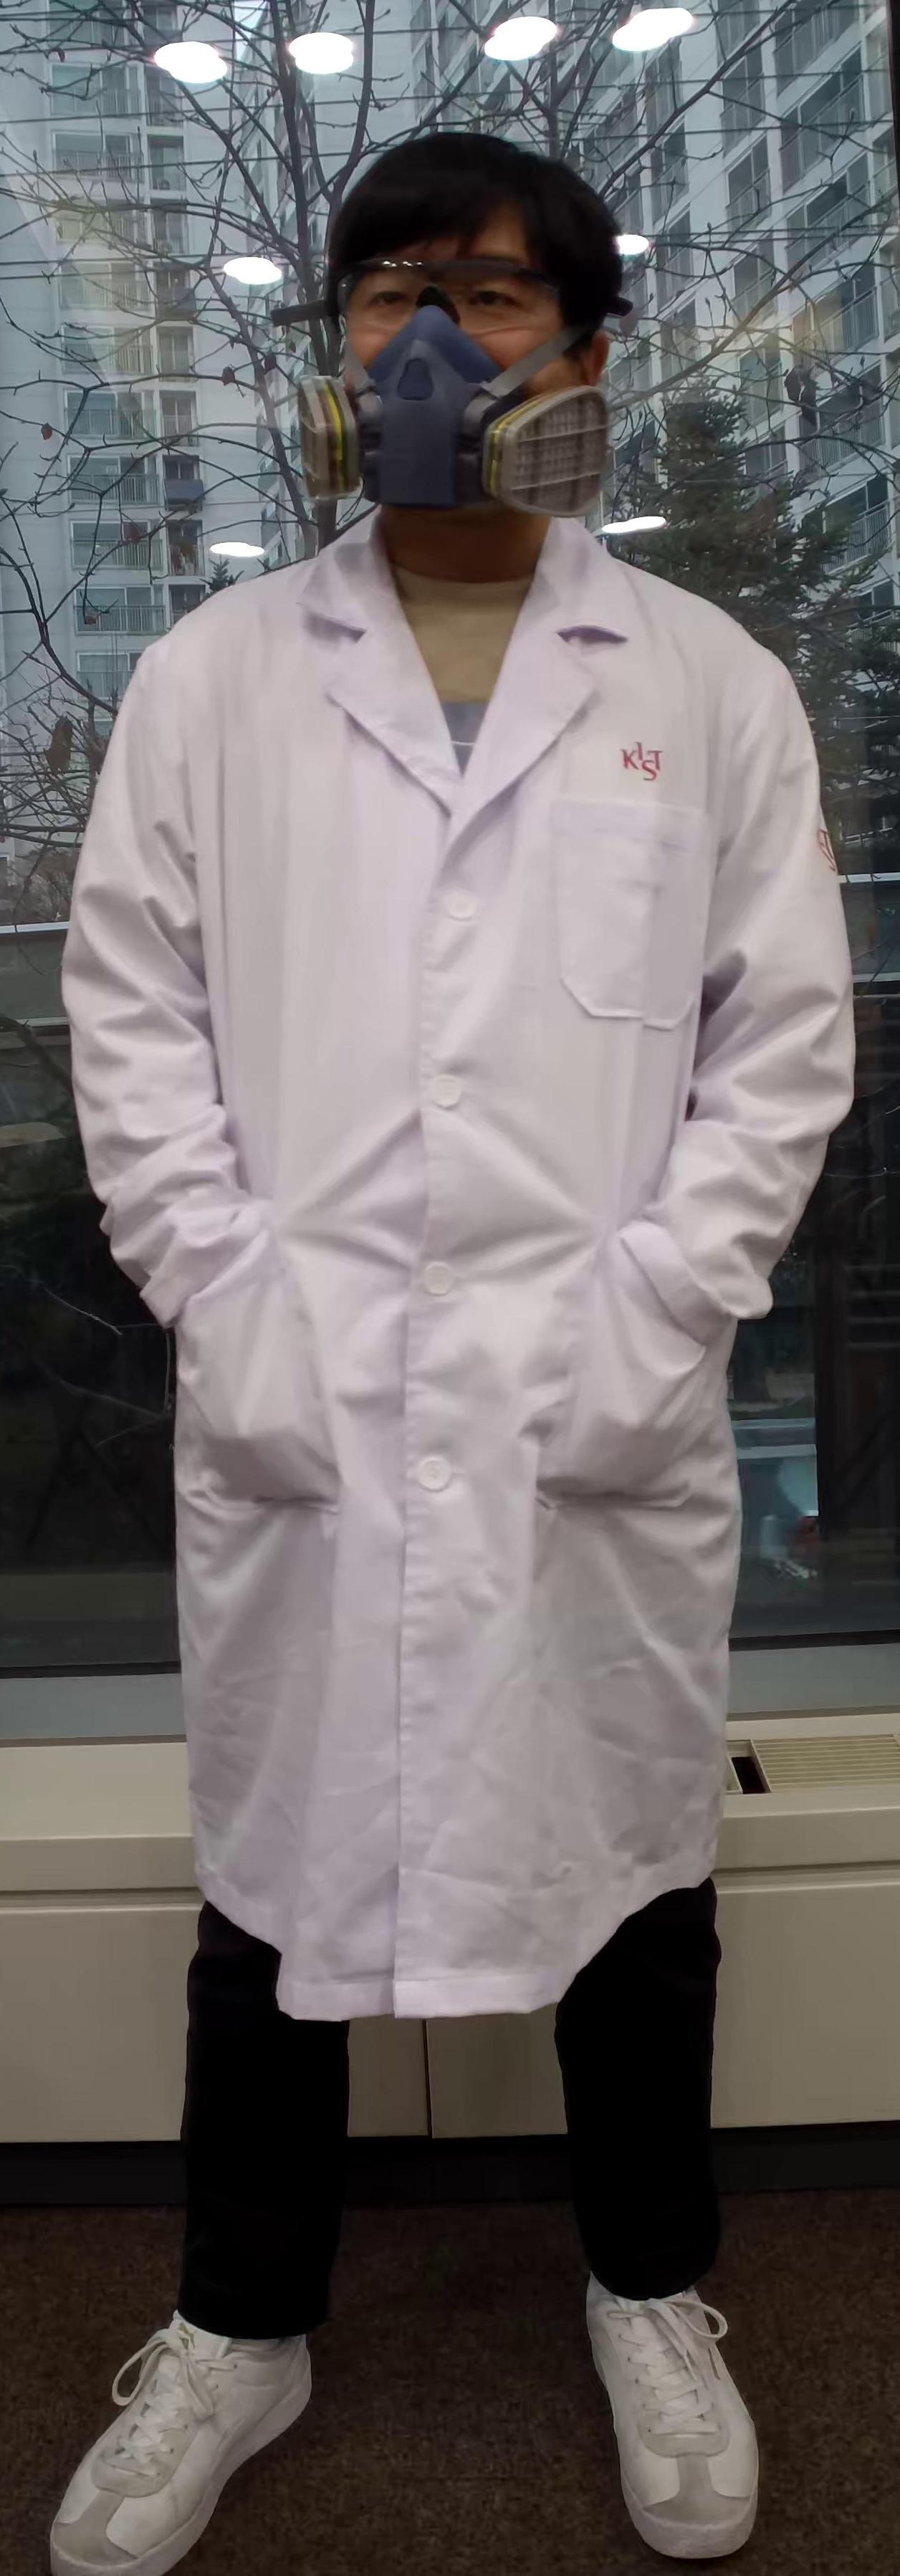lab_coat: (38, 524, 821, 1932)
